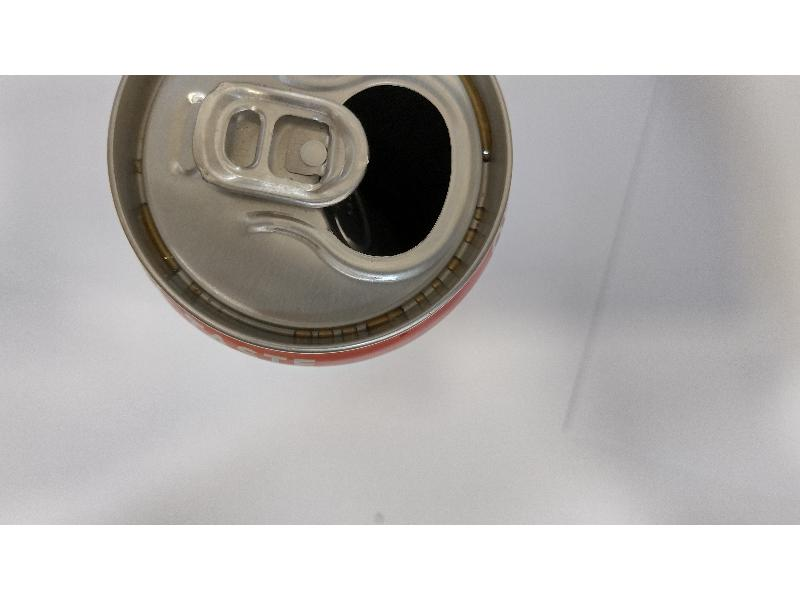can: (92, 75, 547, 391)
